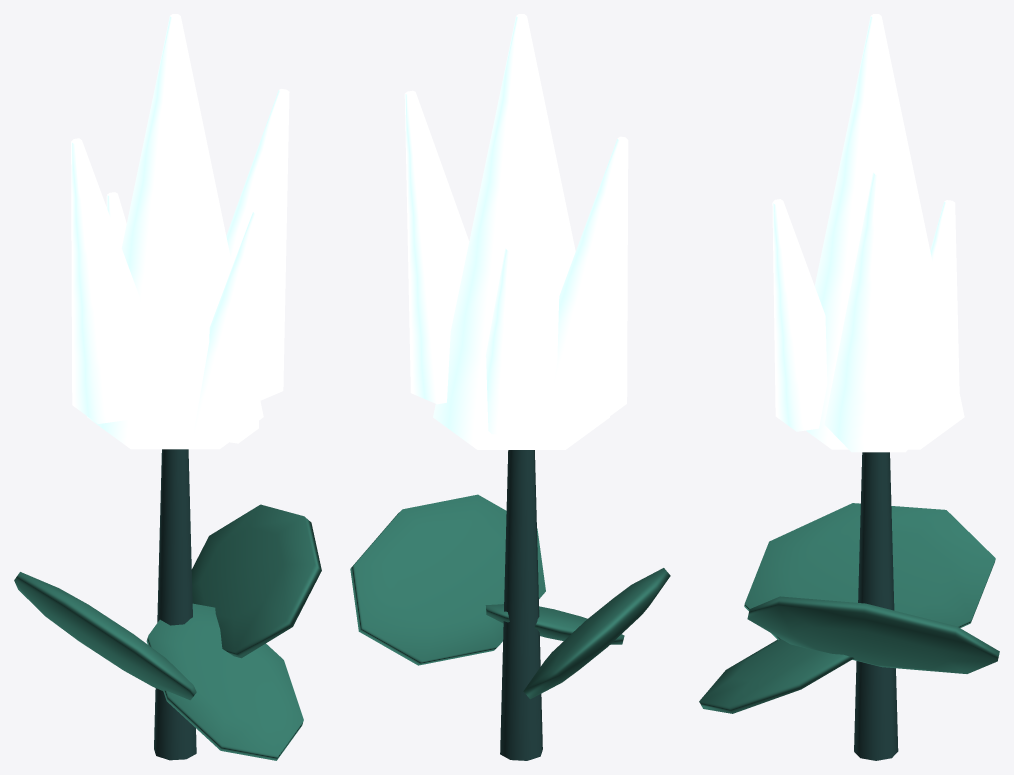
The model's file is AetherBloom_Godot_v1.glb.
3 renders of one model, left to right at view 1: azimuth 30°, elevation 25°; view 2: azimuth 150°, elevation 25°; view 3: azimuth 270°, elevation 25°, orthographic.
Parts seen in each view (by area): view 1: BloomCore, BloomLeft, LeafRight, LeafFront, BloomFront, BloomRight, BloomStem, LeafLeft, BloomRear; view 2: BloomCore, LeafRight, BloomLeft, BloomRight, BloomStem, BloomRear, LeafLeft, LeafFront; view 3: BloomCore, LeafLeft, BloomRight, LeafRight, BloomFront, BloomStem, LeafFront, BloomRear.
Part boxes in pixels (x1,y1,x2,y2): BloomCore: (87, 14, 263, 449); BloomLeft: (71, 138, 152, 423); LeafRight: (191, 504, 321, 658); LeafFront: (146, 603, 303, 760); BloomFront: (193, 210, 263, 443); BloomRight: (226, 89, 289, 400); BloomStem: (154, 449, 196, 760); LeafLeft: (14, 572, 196, 700); BloomRear: (106, 192, 126, 247); BloomCore: (433, 14, 609, 449); LeafRight: (350, 494, 545, 665); BloomLeft: (548, 136, 628, 422); BloomRight: (404, 90, 469, 404); BloomStem: (500, 450, 542, 760); BloomRear: (485, 245, 532, 434); LeafLeft: (523, 568, 670, 699); LeafFront: (485, 604, 624, 644); BloomCore: (806, 14, 964, 449); LeafLeft: (744, 503, 995, 640); BloomRight: (824, 169, 932, 452); LeafRight: (747, 596, 999, 673); BloomFront: (772, 199, 827, 431); BloomStem: (854, 452, 898, 760); LeafFront: (699, 639, 854, 713); BloomRear: (930, 200, 959, 391).
Bounding box in the file's own units: 2.43 × 6.6 × 2.45.
